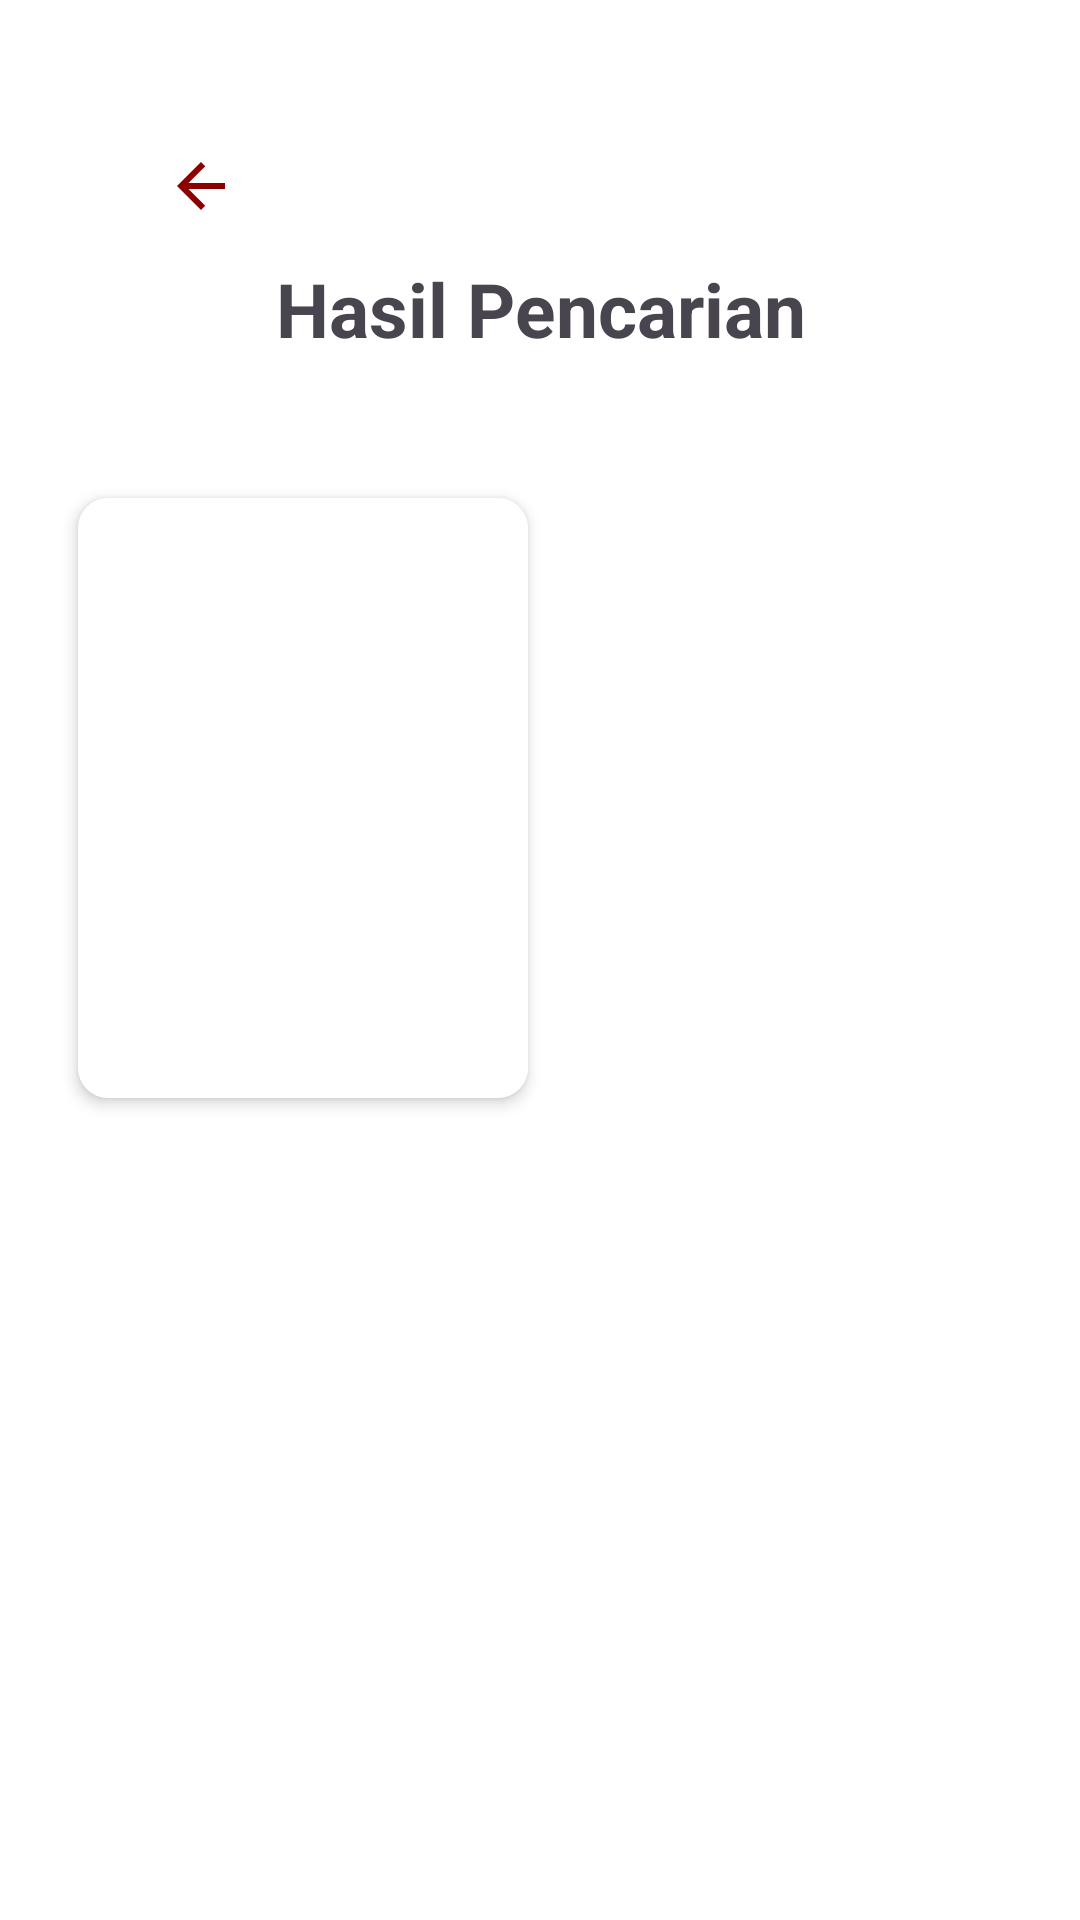

Locate icon controls on the screen. Image size 1080x1920, boxes as (x1, y1, x2, y2).
arrow back: (177, 162, 225, 210)
